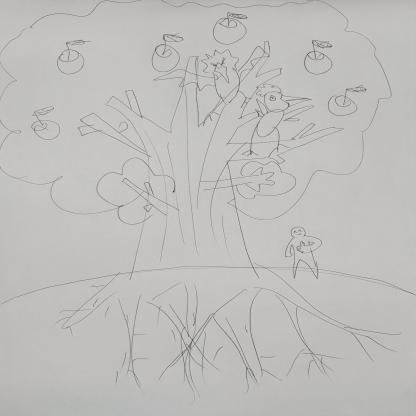apple: (55, 40, 92, 74), (213, 11, 248, 45), (152, 35, 184, 72), (327, 86, 366, 116), (31, 107, 62, 141), (304, 41, 332, 74)
bird: (154, 48, 270, 126), (246, 84, 306, 156)
branch_cut: (78, 40, 342, 169)
root_under: (66, 255, 400, 396)
trunk_bark: (139, 162, 242, 237)
